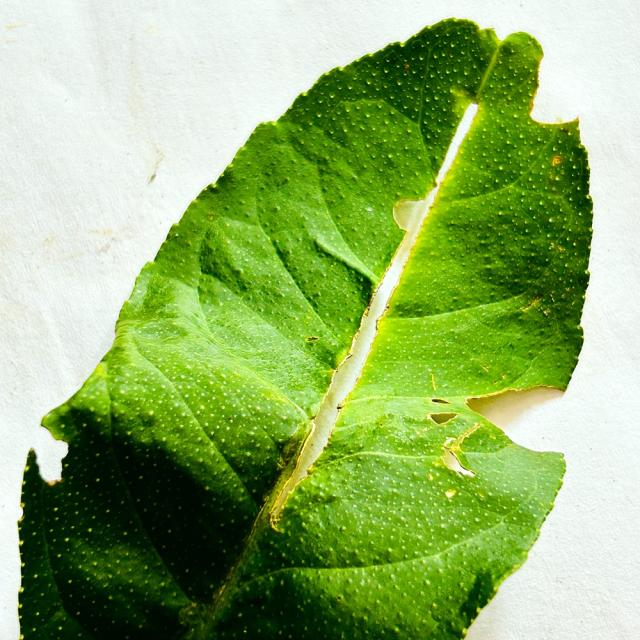Deficiency Leaf: (279, 186, 438, 504), (470, 386, 563, 431), (531, 53, 564, 124), (29, 425, 67, 480)
Lemon: (19, 20, 593, 639)
